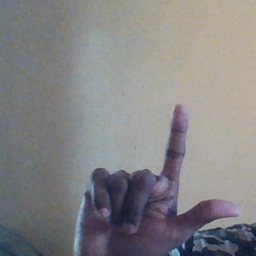L: (75, 106, 246, 256)
